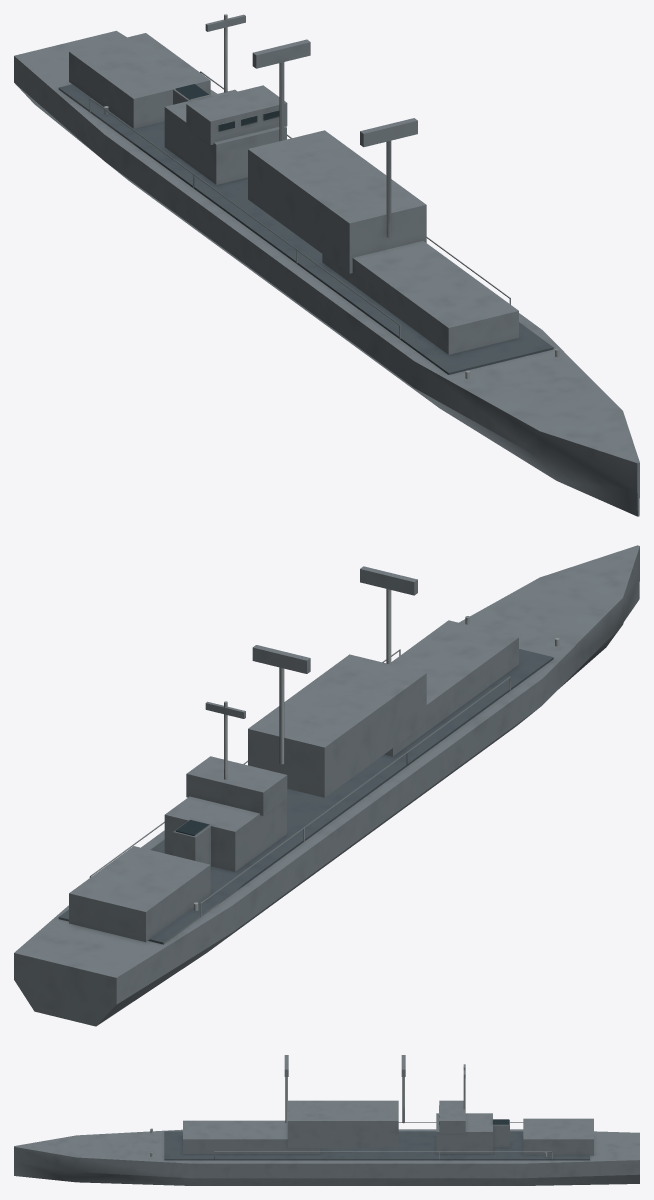
The model's file is naval-cruiser.fbx.
3 renders of one model, top to bottom at view 1: azimuth 30°, elevation 25°; view 2: azimuth 150°, elevation 25°; view 3: azimuth 270°, elevation 25°, orthographic. The views are drawn at different scales.
Parts seen in each view (by area): view 1: naval-cruiser; view 2: naval-cruiser; view 3: naval-cruiser.
Boxes of the visible parts, x1,y1,x2,y2 form: naval-cruiser: (14, 14, 639, 516); naval-cruiser: (14, 545, 639, 1026); naval-cruiser: (14, 1055, 639, 1185).
Size of the model in its own units: 40 by 62 by 310.
1 material, 1 textured.
